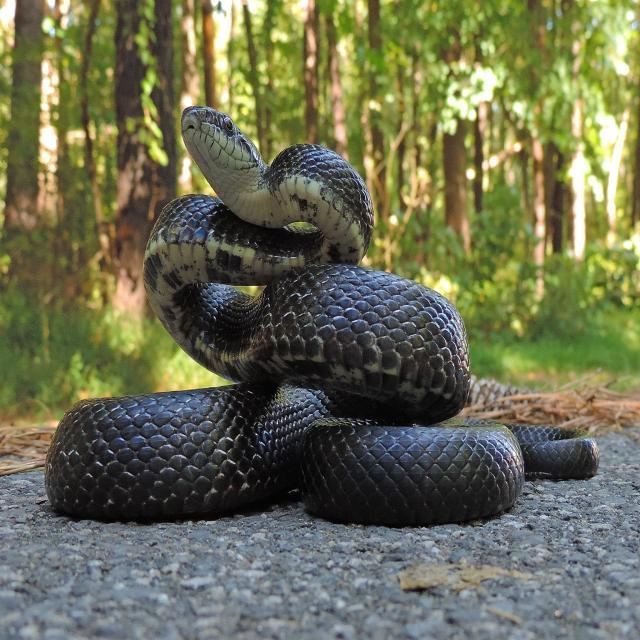Snake: (46, 88, 614, 540)
